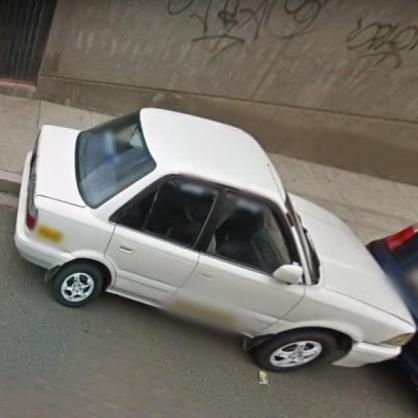car: (14, 103, 417, 376)
